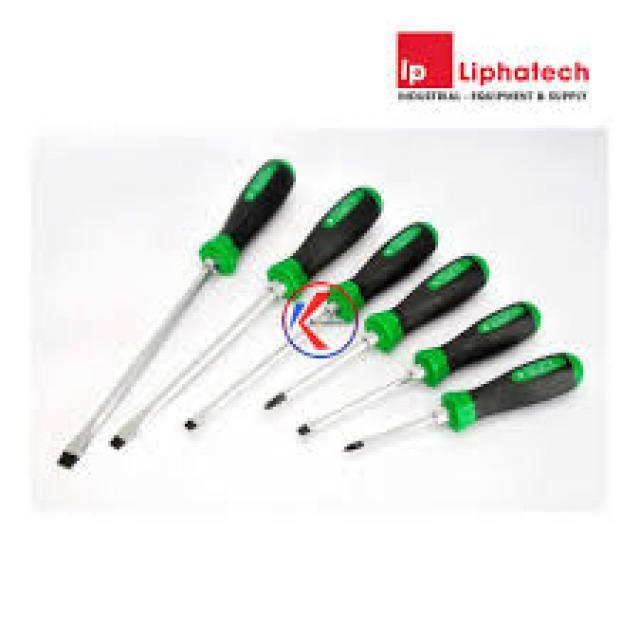screwdriver: (54, 150, 302, 476), (110, 185, 388, 455), (179, 220, 441, 437), (254, 250, 493, 418), (294, 294, 548, 440), (338, 350, 586, 455)
